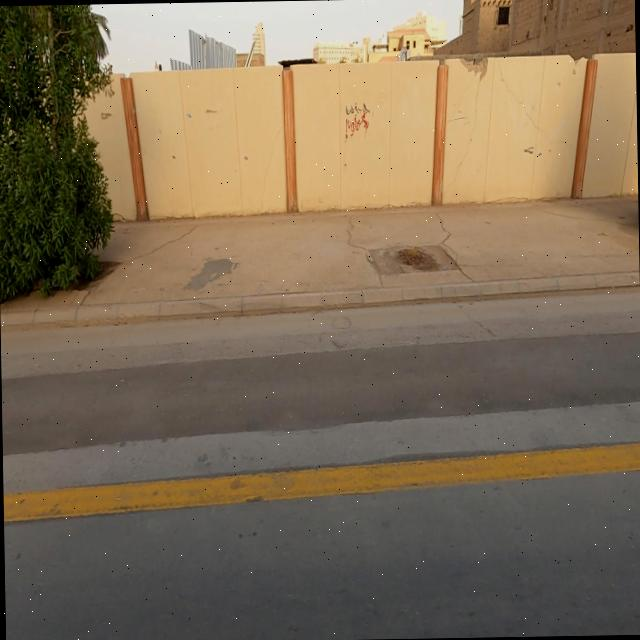Graffiti: (344, 101, 373, 145)
